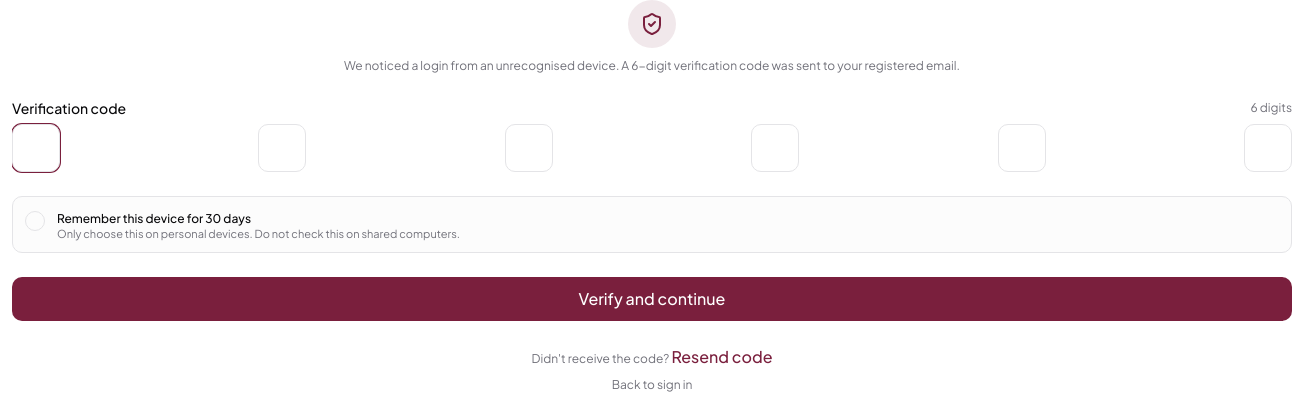
Scenario: VerifyDeviceForm (F10) › handles resending verification code with cooldown timer and toast
Click the button "Resend code" at x=722, y=357, box [671,345,772,369]
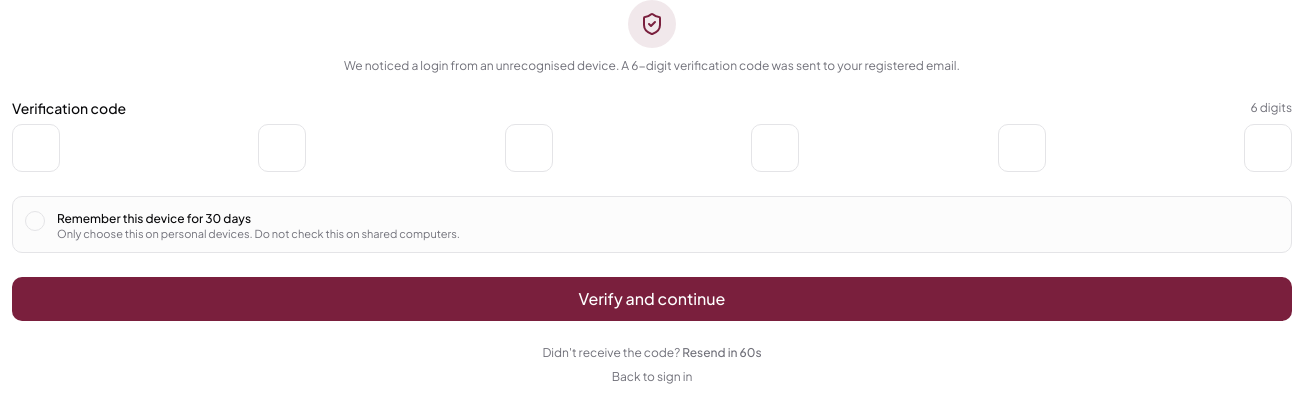
Now the text "Resend in 60s" is shown, box [682,345,762,360]
